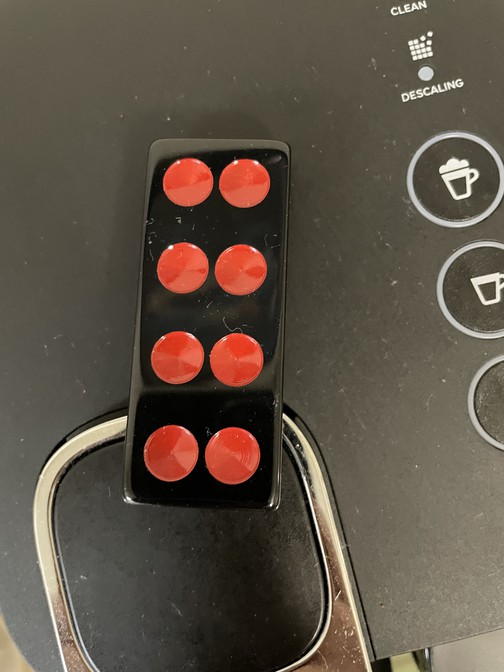man: (123, 138, 285, 513)
